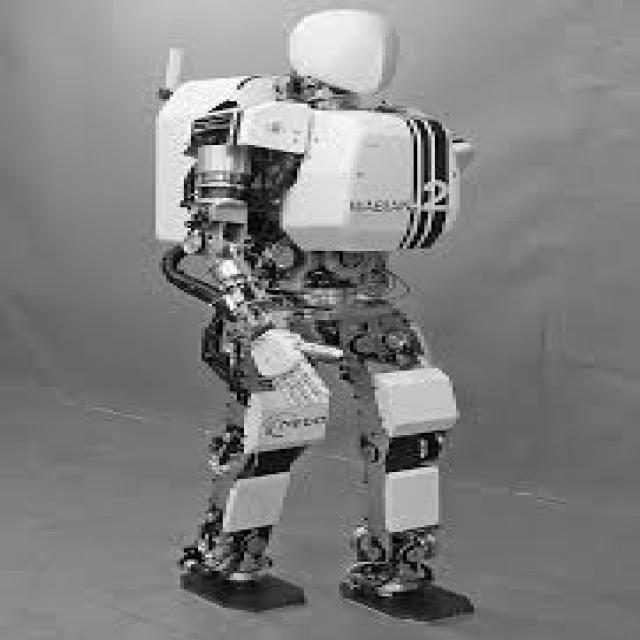humanoid-arm: (215, 259, 338, 402)
humanoid-leg: (341, 413, 477, 625), (183, 403, 304, 611)
